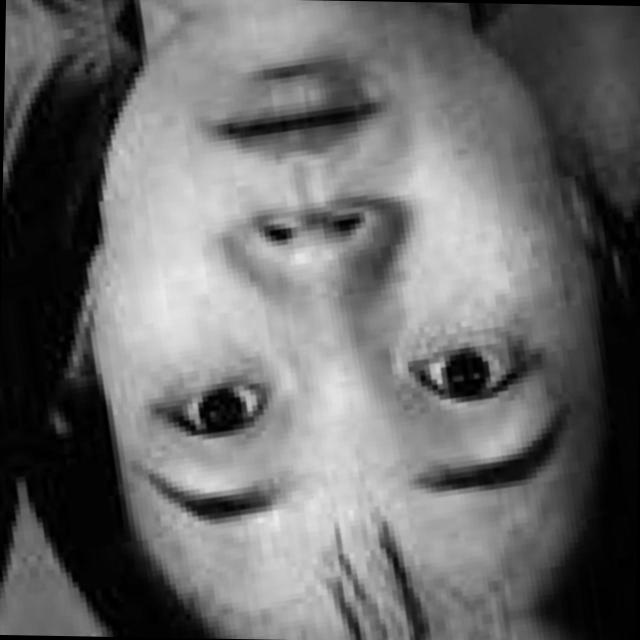surprise: (66, 0, 548, 620)
